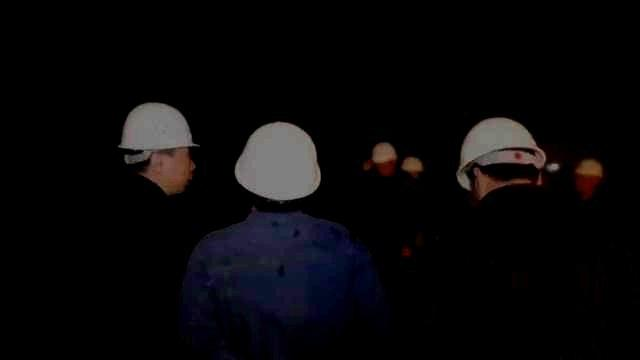helmet: (234, 121, 321, 213), (118, 102, 200, 194), (455, 119, 546, 200), (573, 159, 604, 194), (371, 142, 397, 177), (401, 156, 423, 180)
